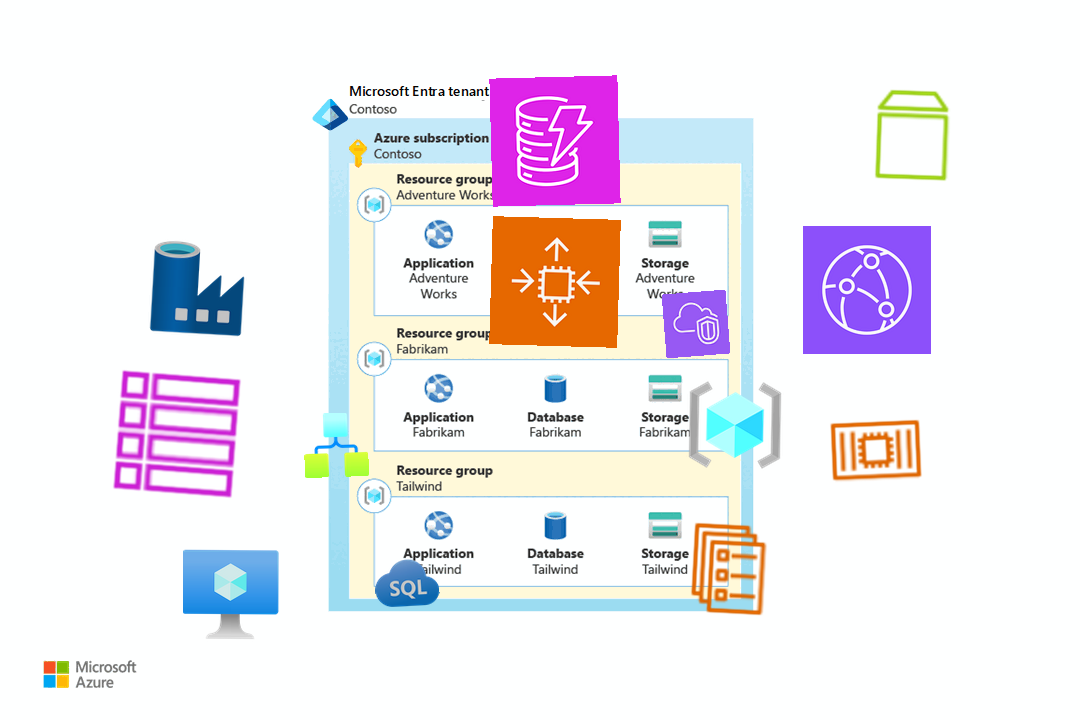aws_amazon_cloudfront: (802, 225, 932, 355)
aws_amazon_dynamodb: (489, 75, 621, 207)
aws_amazon_ec2_auto_scaling: (489, 216, 621, 348)
aws_amazon_virtual_private_cloud: (661, 289, 731, 359)
aws_dynamodb_table: (108, 365, 246, 503)
aws_elastic_block_store_volume: (863, 85, 963, 185)
aws_elastic_container_service_container_2: (826, 400, 926, 500)
aws_elastic_container_service_service: (678, 518, 780, 620)
azure_data_factories: (147, 237, 249, 339)
azure_logic_apps: (302, 411, 370, 479)
azure_resource_groups: (686, 376, 784, 474)
azure_sql: (373, 550, 441, 618)
azure_virtual_machine: (182, 548, 280, 646)
